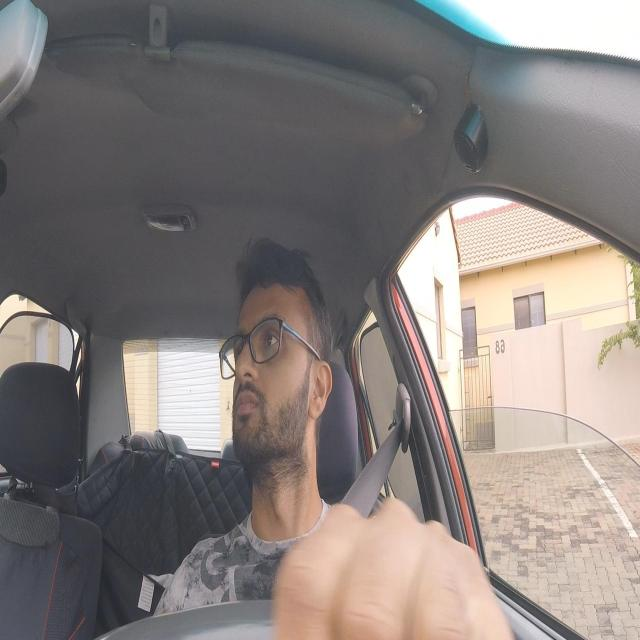open: (255, 315, 287, 367)
